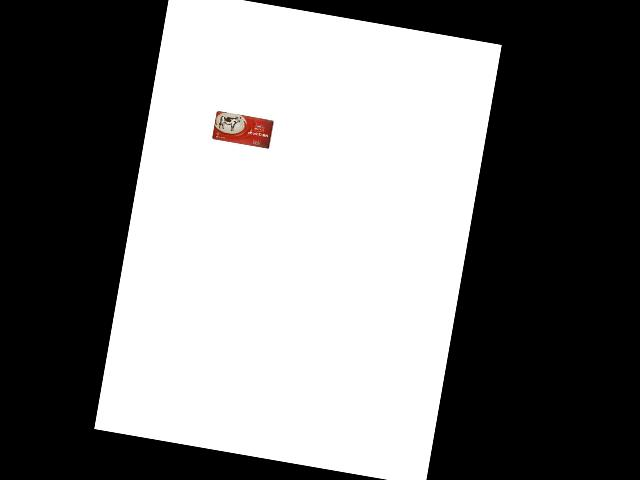chocolate: (211, 110, 275, 150)
